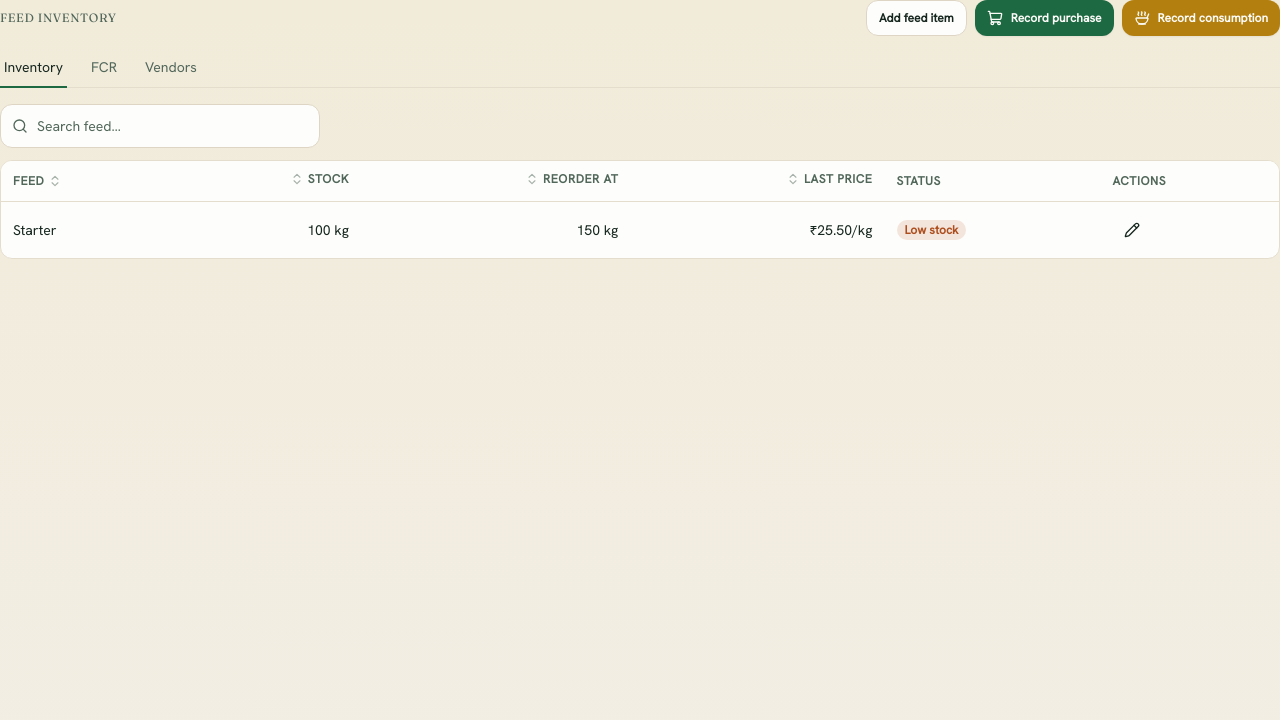
Test: FeedPanel entity edit (slice 11.9) › edits a feed item through the prefilled pencil dialog (PATCH name/reorderThreshold)
Expected: the text "Starter" is shown, [13,220,56,238]
// DataTable renders desktop + mobile variants — pick the first instance.
Click the button named "Edit Starter".
click(1132, 230)  # box [1112,212,1152,248]
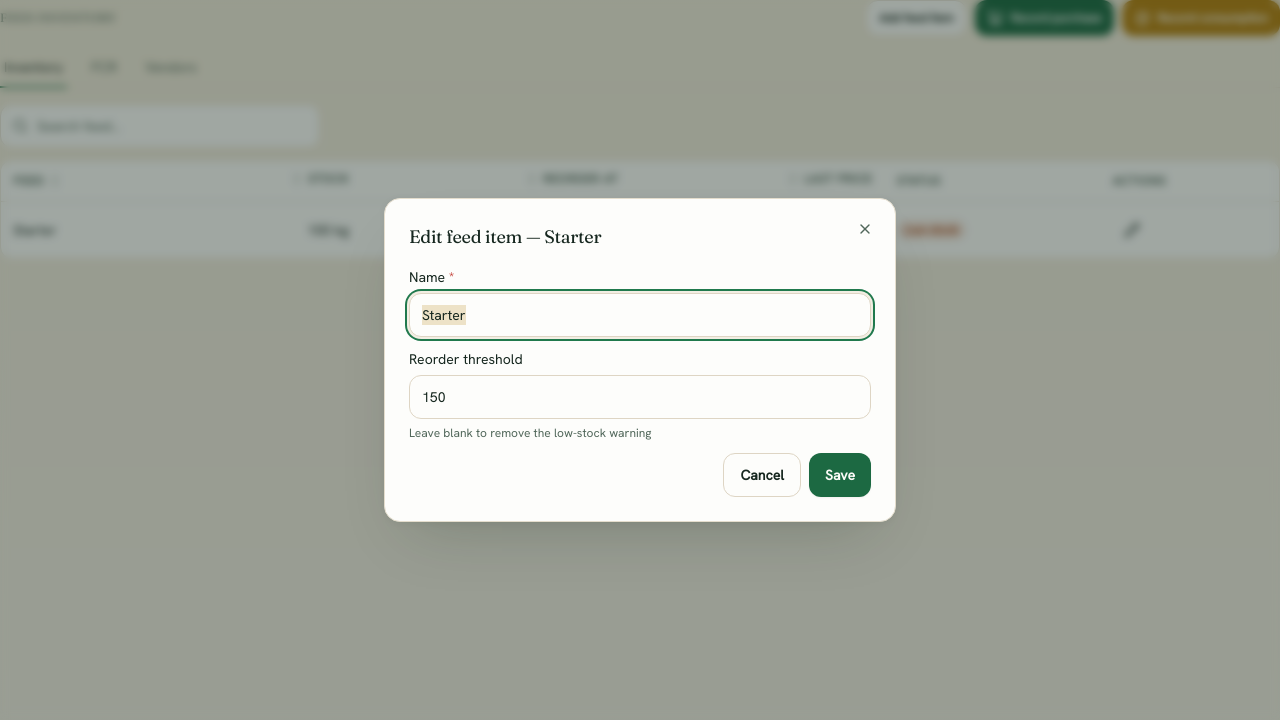
Result: the field labelled "Name *" holds "Starter"
Result: the number field labelled "Reorder threshold" holds "150" at [409,375,871,419]
Replace the text in the field labelled "Name *" with "Starter Mash" at (640, 315), box [409,293,871,337]
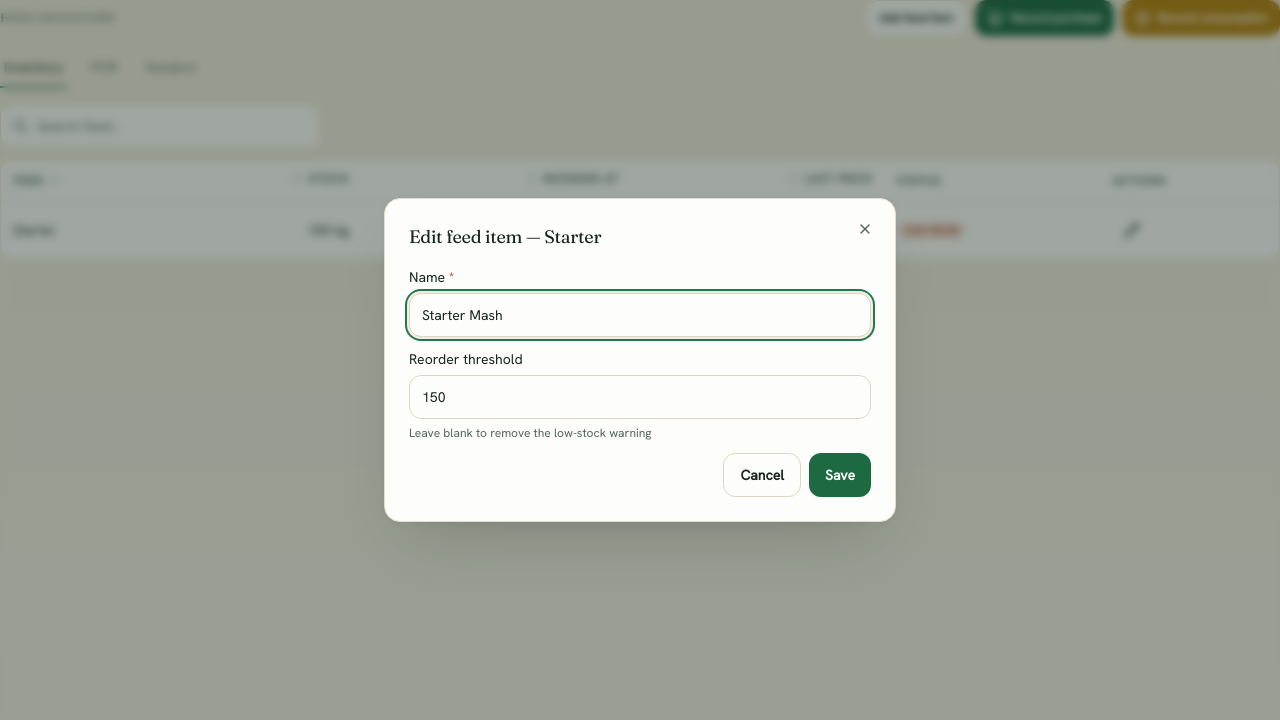
Replace the text in the number field labelled "Reorder threshold" with "200" at (640, 397), box [409,375,871,419]
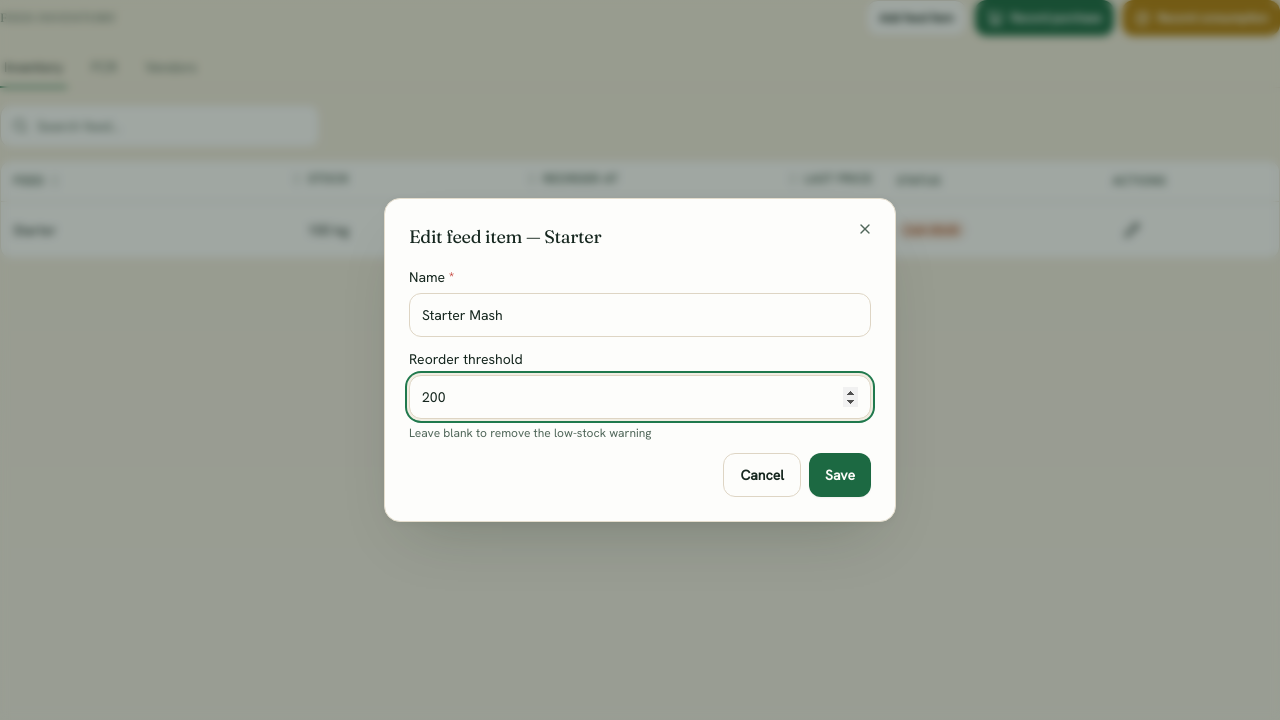
Click the button "Save".
click(840, 475)  # box [809,453,871,497]
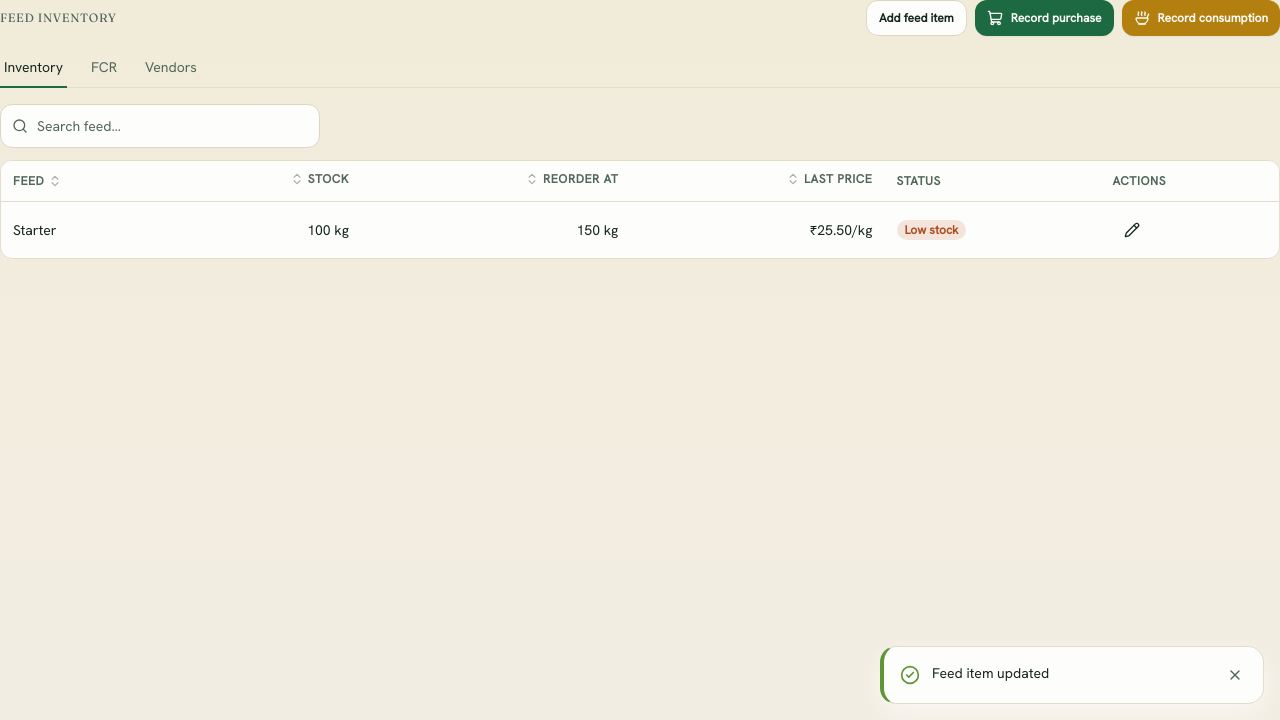
Result: the text "Feed item updated" is shown at [932,664,1049,682]
